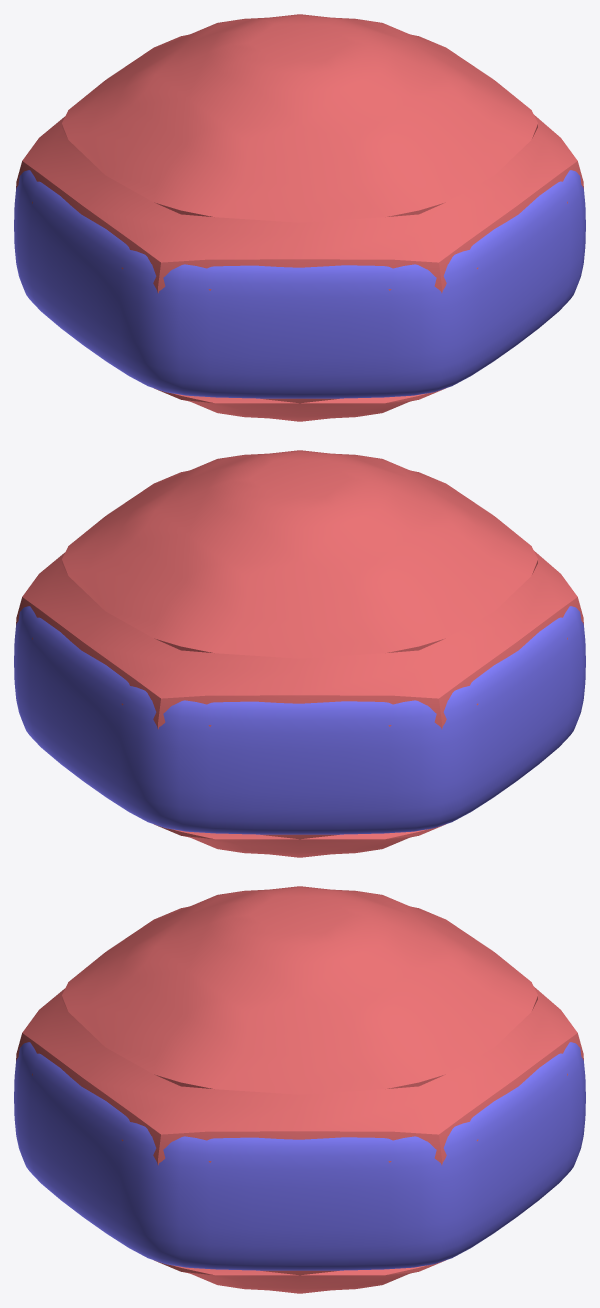
The model's file is Cells.fbx.
3 views of the same model, one above another, from view 1: azimuth 30°, elevation 25°; view 2: azimuth 150°, elevation 25°; view 3: azimuth 270°, elevation 25° (orthographic).
Parts seen in each view (by area): view 1: Cylinder.001, Cylinder; view 2: Cylinder.001, Cylinder; view 3: Cylinder.001, Cylinder.
Boxes of the visible parts, left/top/right/bottom form: Cylinder.001: left=16, top=14, right=583, bottom=421; Cylinder: left=14, top=170, right=585, bottom=398; Cylinder.001: left=16, top=450, right=583, bottom=857; Cylinder: left=14, top=606, right=585, bottom=834; Cylinder.001: left=16, top=886, right=583, bottom=1293; Cylinder: left=14, top=1042, right=585, bottom=1270.
Size of the model in its own units: 172 by 127 by 187.
